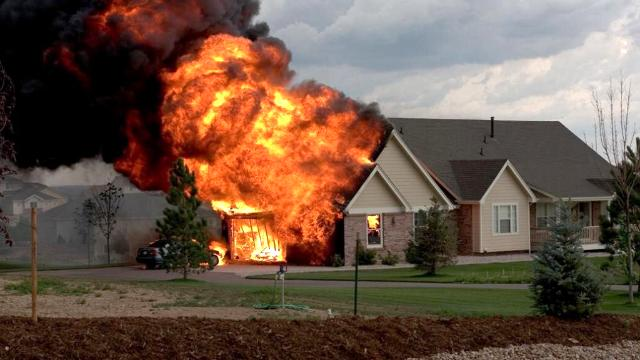fire: (3, 1, 393, 266), (336, 115, 632, 268)
